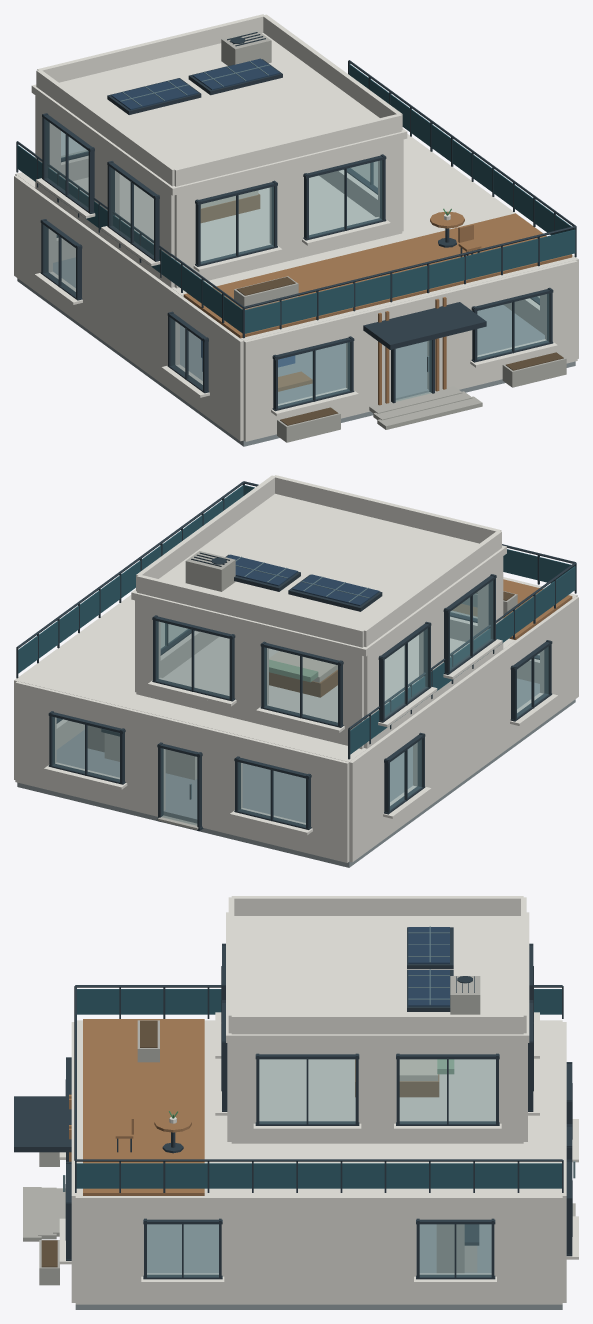
File: House_6.fbx
The picture shows the model from 3 angles, top to bottom: view 1: azimuth 30°, elevation 25°; view 2: azimuth 150°, elevation 25°; view 3: azimuth 270°, elevation 25°; orthographic projection. The views are drawn at different scales.
Visible parts, largest first — view 1: House_6; view 2: House_6; view 3: House_6.
Part boxes in pixels (bbox=[...]): House_6: bbox=[14, 14, 578, 446]; House_6: bbox=[14, 475, 578, 867]; House_6: bbox=[14, 896, 578, 1309].
Size of the model in its own units: 11.87 by 7.32 by 15.09.
